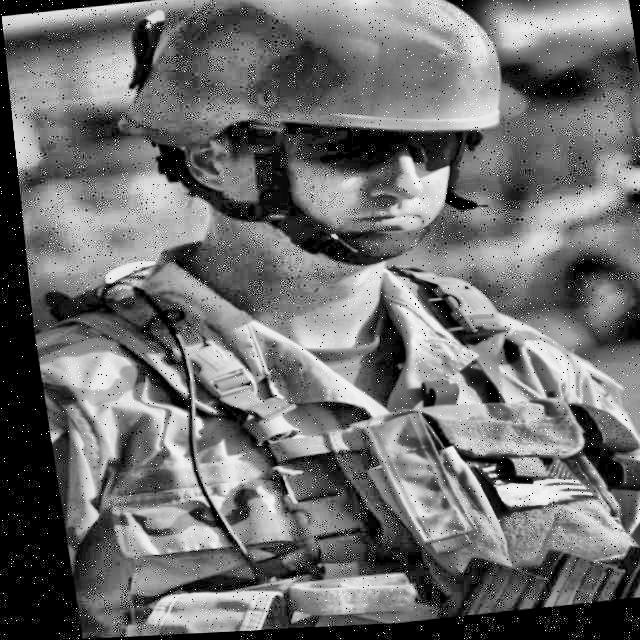Helmet: (110, 0, 543, 295)
